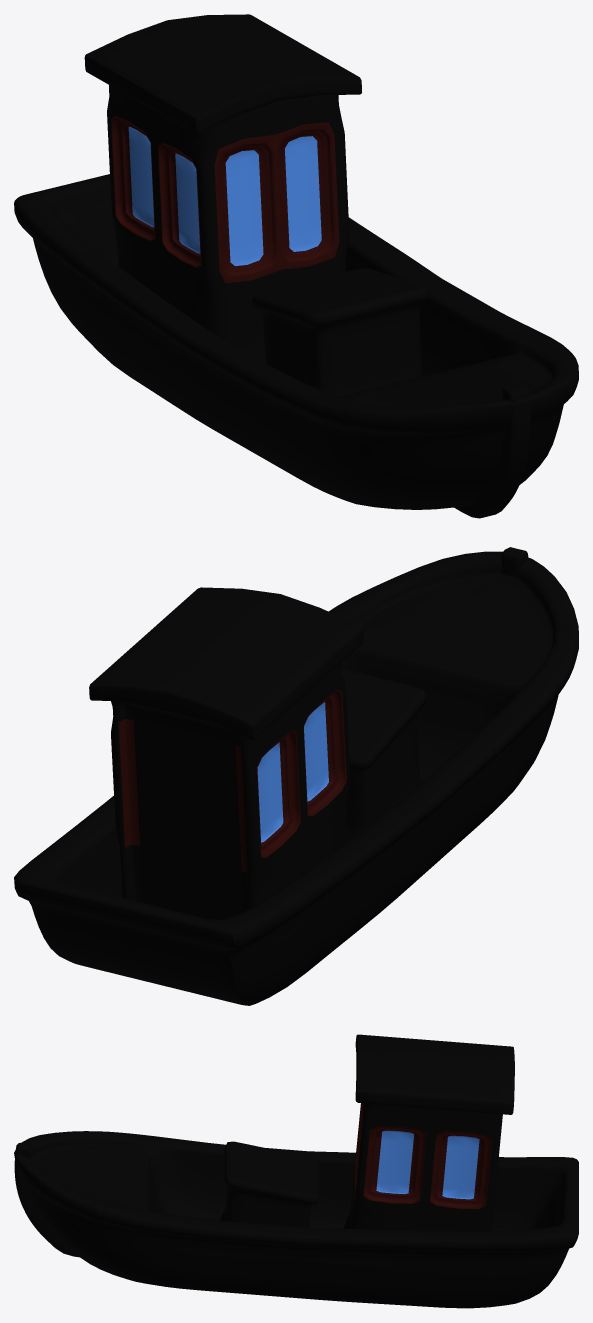
File: boat.obj
3 renders of one model, top to bottom at view 1: azimuth 30°, elevation 25°; view 2: azimuth 150°, elevation 25°; view 3: azimuth 270°, elevation 25°, orthographic. The views are drawn at different scales.
Parts seen in each view (by area): view 1: Box01, Box02, Box03; view 2: Box01, Box02, Box03; view 3: Box01, Box02, Box03.
Boxes of the visible parts, x1,y1,x2,y2 form: Box01: (14, 85, 578, 509); Box02: (84, 14, 361, 134); Box03: (454, 384, 530, 518); Box01: (14, 551, 578, 1005); Box02: (89, 587, 363, 739); Box03: (501, 547, 528, 576); Box01: (14, 1103, 578, 1308); Box02: (355, 1034, 514, 1114); Box03: (14, 1142, 79, 1257).
Size of the model in its own units: 34.18 by 41.06 by 92.84.
Materials: 5 (3 with a texture image).
